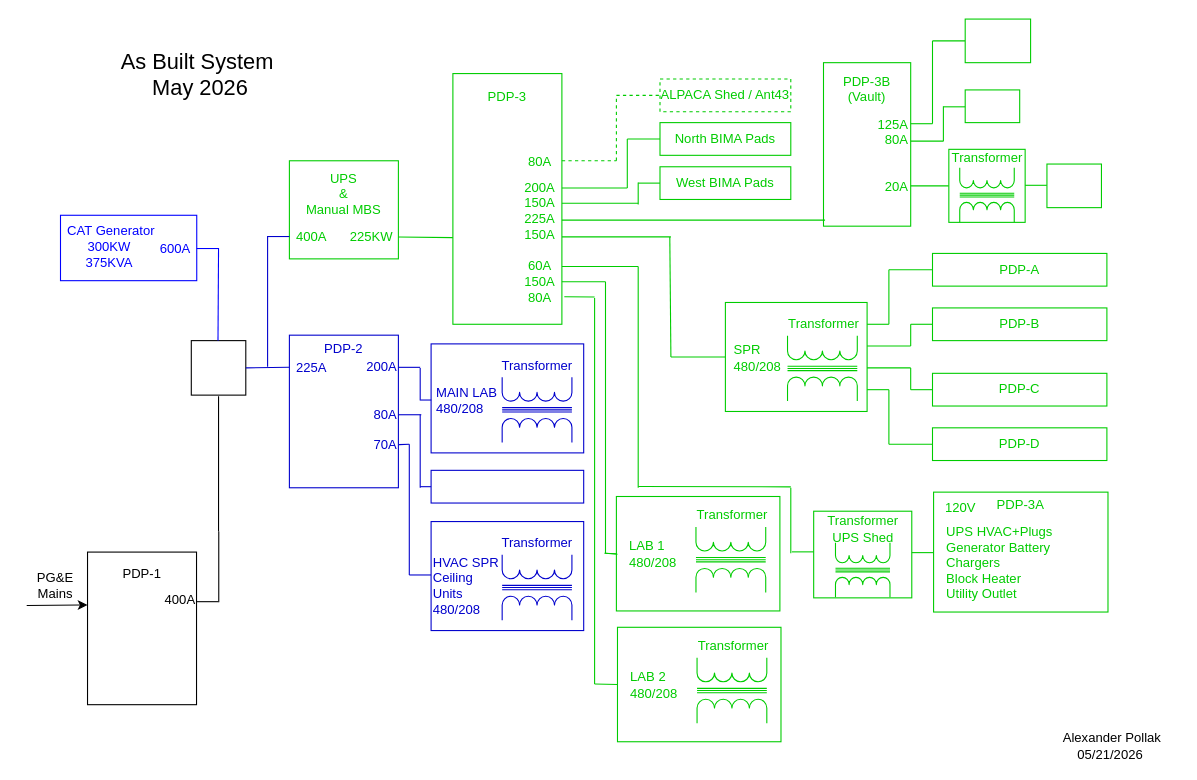
Some shapes in this 1197 by 780 pixel diagram are drawn without their labels. The shapes that lost their labels are listed below. From the top down, each one's centre as x and y in pixels, then its label:
At point 997,40: "Nodes 1,2,3".
At point 992,106: "Nodes 4,5".
At point 1073,185: "Sump Pump".
At point 218,367: "600A ATS".
At point 507,486: "Liebert SPR HVAC".
